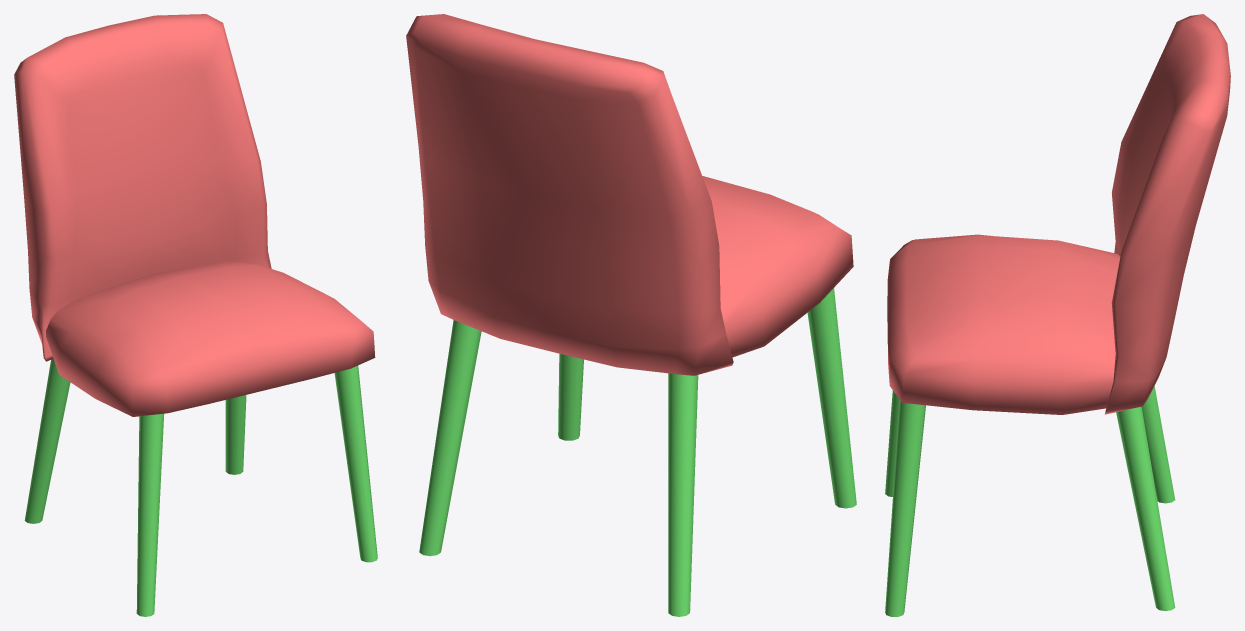
Rendered from SM_ChairB01.fbx.
The picture shows the model from 3 angles, left to right: view 1: azimuth 30°, elevation 25°; view 2: azimuth 150°, elevation 25°; view 3: azimuth 270°, elevation 25°; orthographic projection. The views are drawn at different scales.
Visible parts, largest first — view 1: SM_ChairB01; view 2: SM_ChairB01; view 3: SM_ChairB01.
Boxes of the visible parts, left/top/right/bottom form: SM_ChairB01: left=14, top=14, right=377, bottom=616; SM_ChairB01: left=406, top=14, right=856, bottom=616; SM_ChairB01: left=885, top=14, right=1230, bottom=616.
Size of the model in its own units: 0.479 by 0.8186 by 0.5171.
